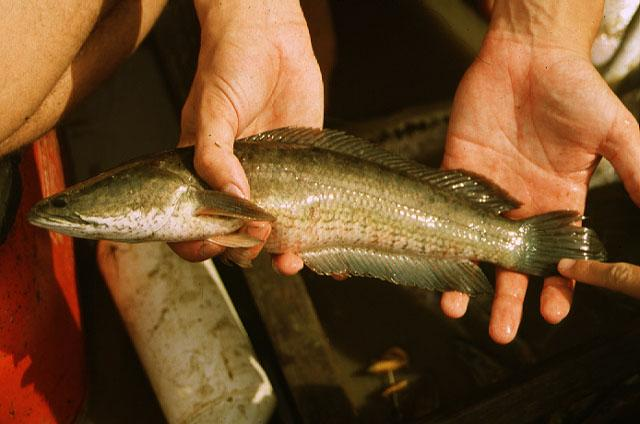Mulut: (12, 182, 108, 254)
Sirip Anal: (294, 237, 502, 313)
Sirip Dada: (172, 179, 294, 234)
Sirip Ekor: (504, 200, 616, 288)
Sirip Perut: (195, 224, 269, 278)
Sirip Punggung: (232, 123, 530, 230)
